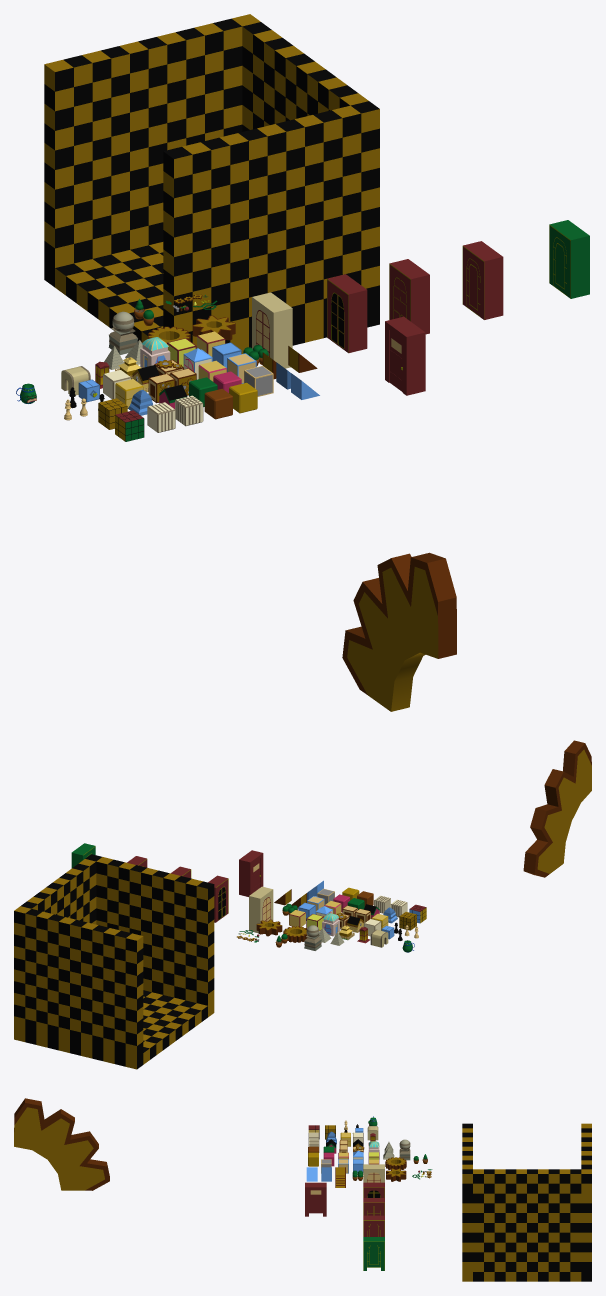
The model's file is 房间物体.fbx.
3 views of the same model, one above another, from view 1: azimuth 30°, elevation 25°; view 2: azimuth 150°, elevation 25°; view 3: azimuth 270°, elevation 25° (orthographic). The views are drawn at different scales.
Parts seen in each view (by area): view 1: 房间.005, 齿轮.008, 门框.003, Cube.001, 门框.001, 门框.004, 门框.002, 门框; view 2: 房间.005, 齿轮.008, Cube.001, 门框; view 3: 房间.005, 齿轮.008, 门框.004, Cube.001, Cube.002, 门框.003, 门.005, 门框, 门框.002, 门框.001.
Part boxes in pixels (x1,y1,x2,y2): 房间.005: (44, 14, 379, 353); 齿轮.008: (342, 552, 456, 711); 门框.003: (462, 241, 503, 319); Cube.001: (385, 316, 425, 395); 门框.001: (327, 274, 367, 353); 门框.004: (549, 220, 589, 298); 门框.002: (389, 259, 429, 334); 门框: (252, 292, 292, 368); 房间.005: (14, 854, 214, 1069); 齿轮.008: (523, 740, 591, 877); Cube.001: (239, 850, 263, 896); 门框: (249, 886, 273, 933); 房间.005: (462, 1123, 591, 1281); 齿轮.008: (14, 1098, 109, 1190); 门框.004: (363, 1237, 384, 1270); Cube.001: (305, 1182, 326, 1216); Cube.002: (309, 1190, 322, 1213); 门框.003: (363, 1215, 384, 1236); 门.005: (367, 1245, 380, 1267); 门框: (363, 1164, 384, 1182); 门框.002: (363, 1198, 384, 1215); 门框.001: (363, 1182, 384, 1197).
Size of the model in its own units: 6018 by 2200 by 10694.
